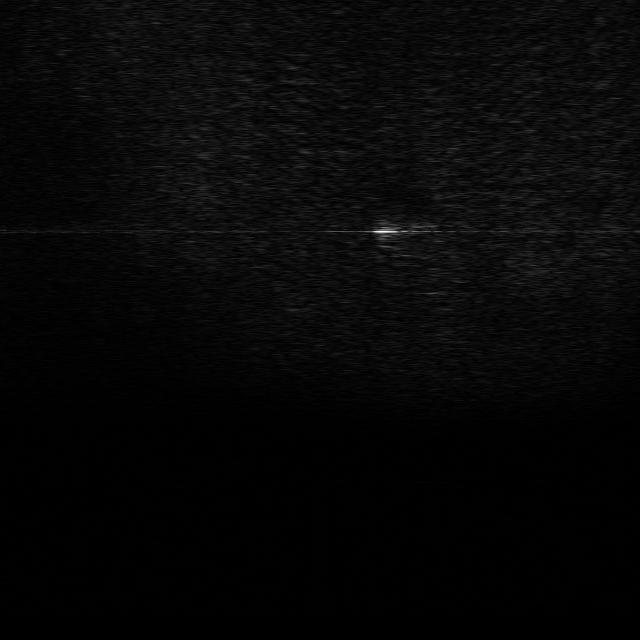plane: (365, 213, 433, 246)
